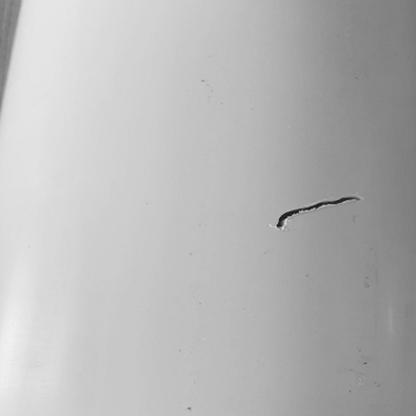fengxi: (275, 196, 362, 231)
